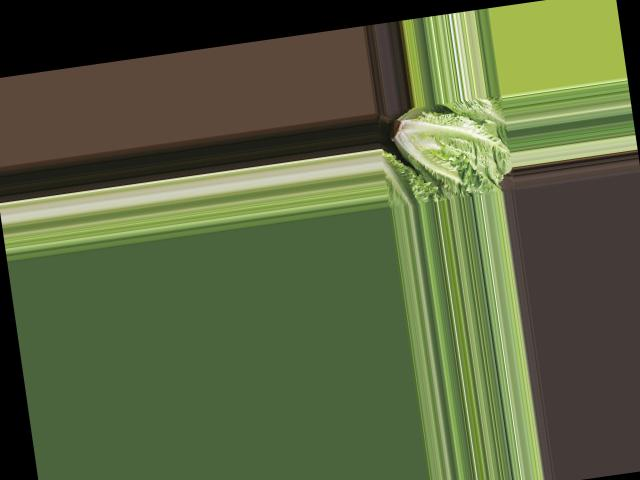lettuce: (381, 94, 513, 200)
